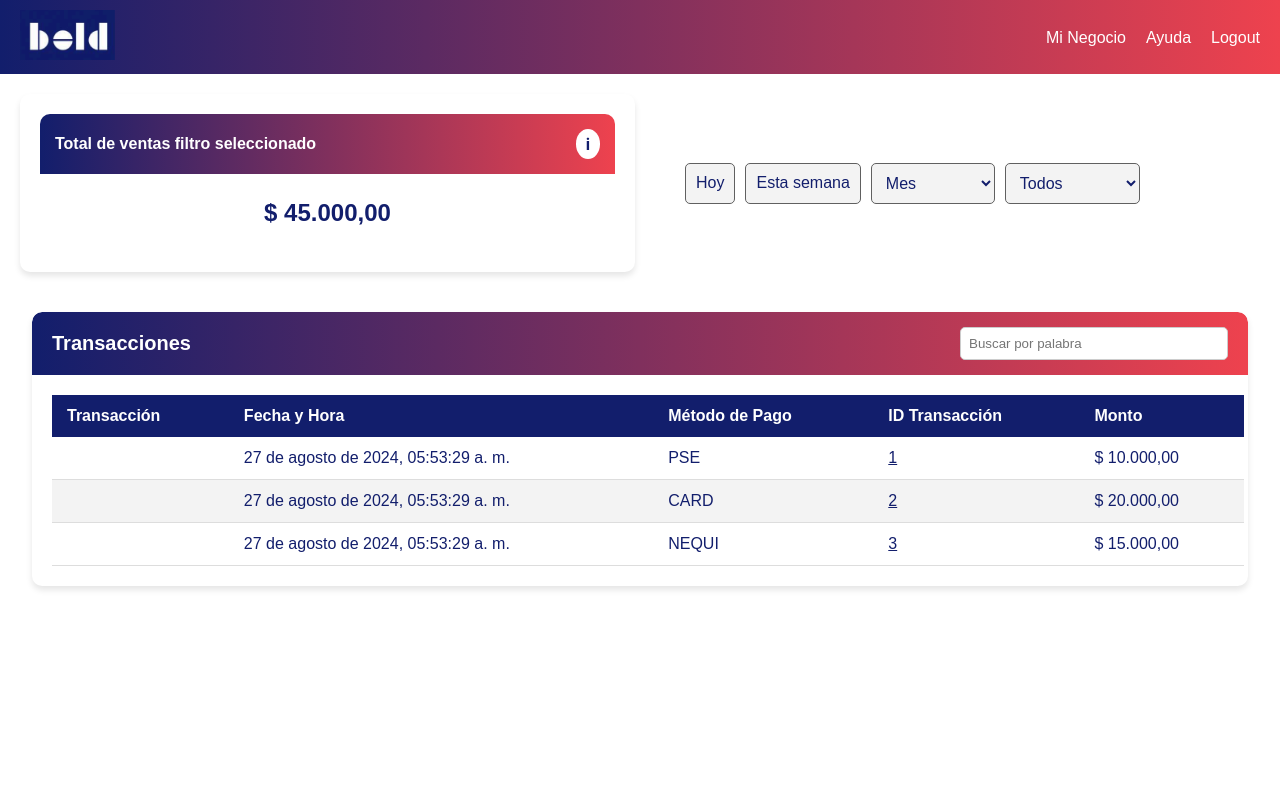
Test: filters transactions by payment method
The image size is (1280, 800).
Select "Tarjeta" in the 2nd dropdown showing "Todos". click: (1072, 183)
box: [1005, 162, 1140, 204]
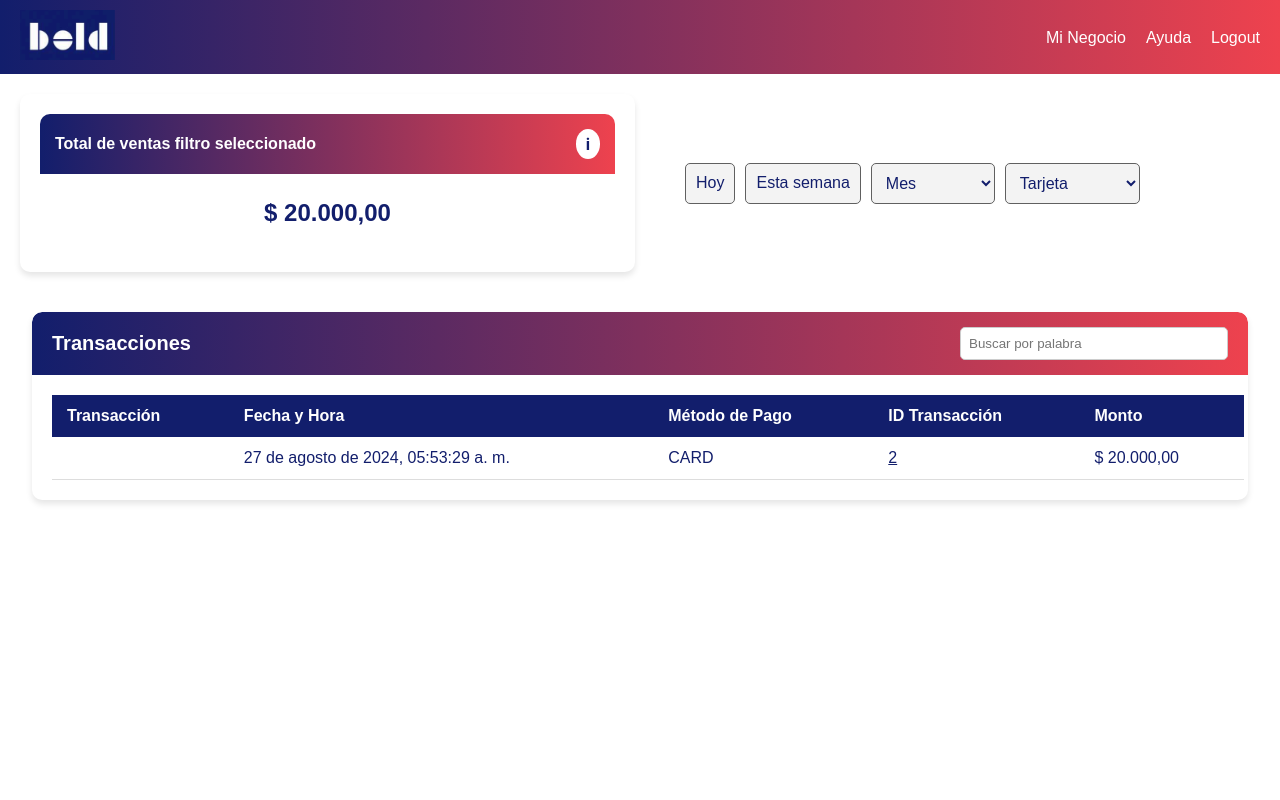
Check: the text "CARD" is shown, box [653, 437, 873, 480]
